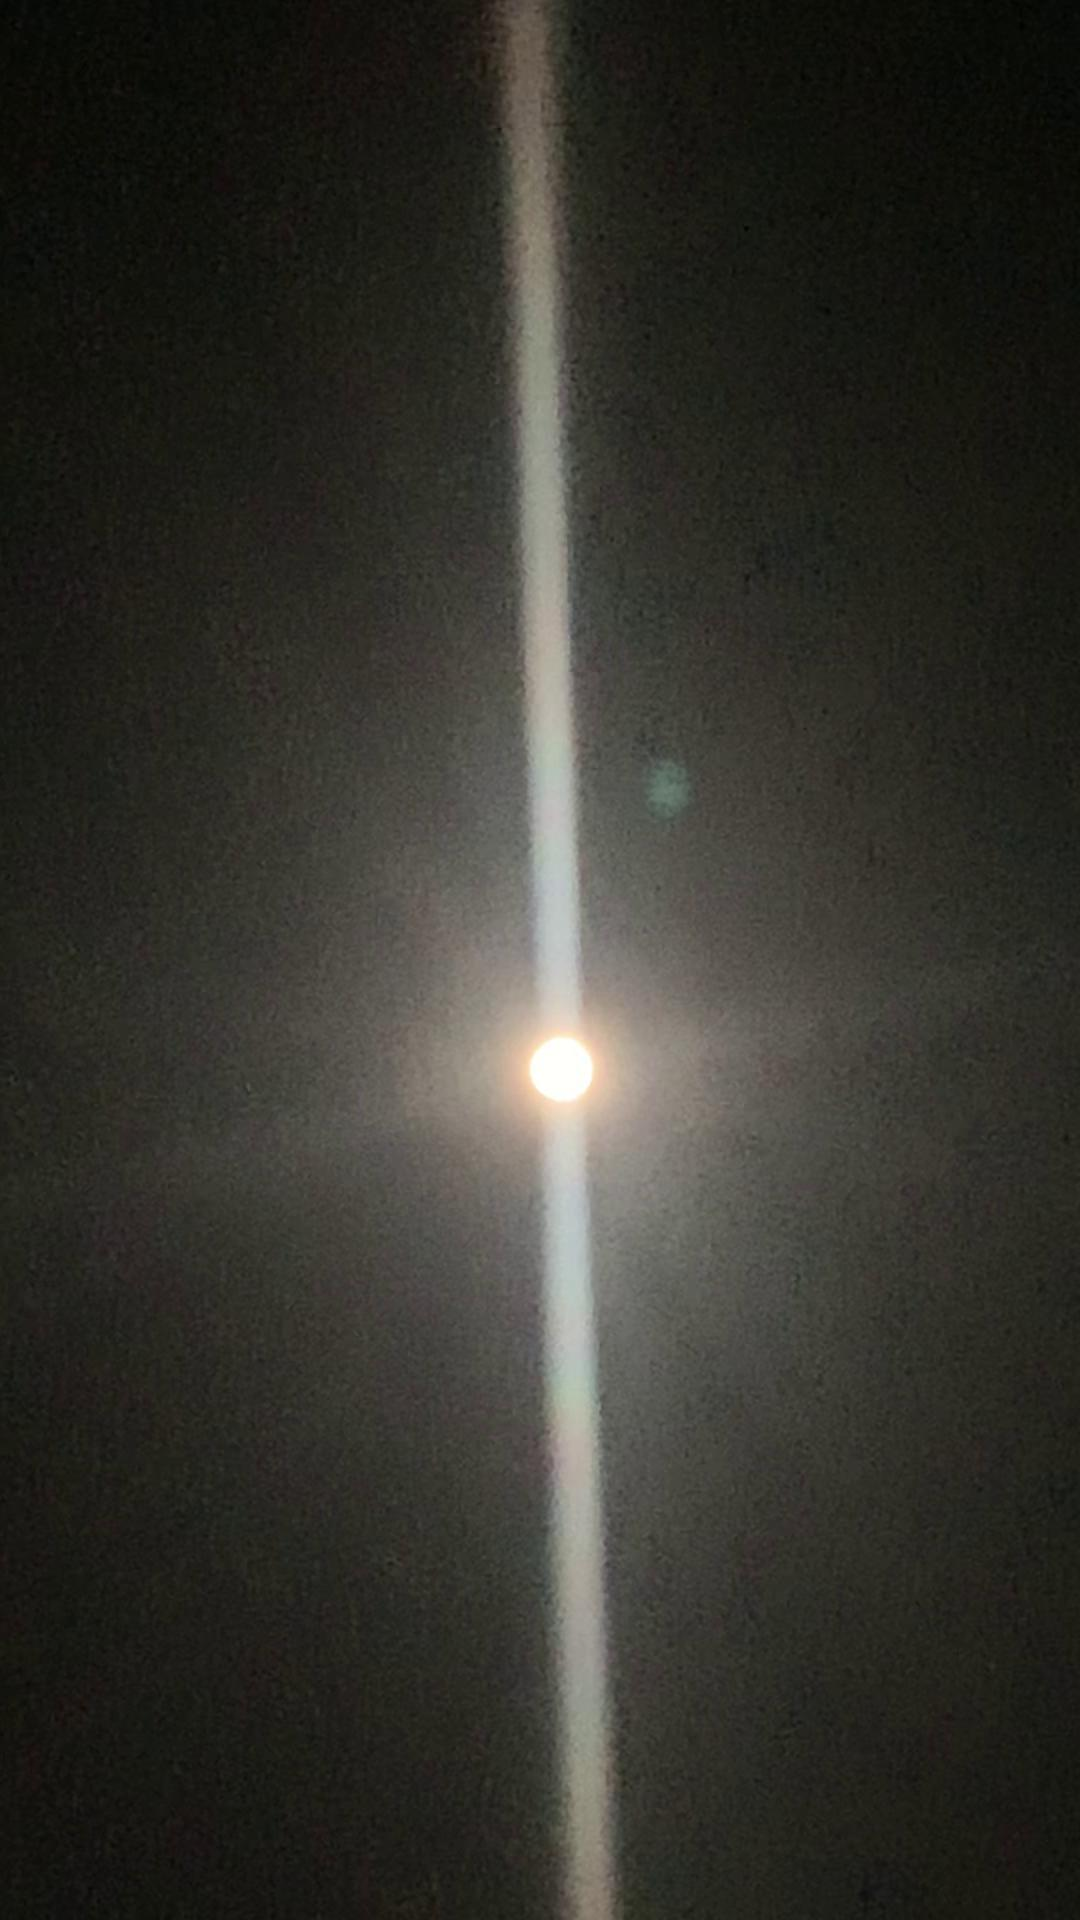moon: (502, 1015, 608, 1122)
